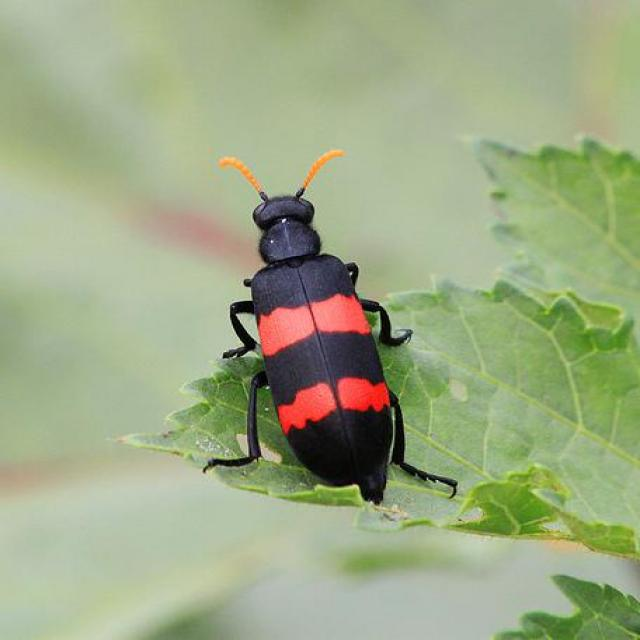BlisterBeetle-Adult-: (167, 133, 463, 512)
